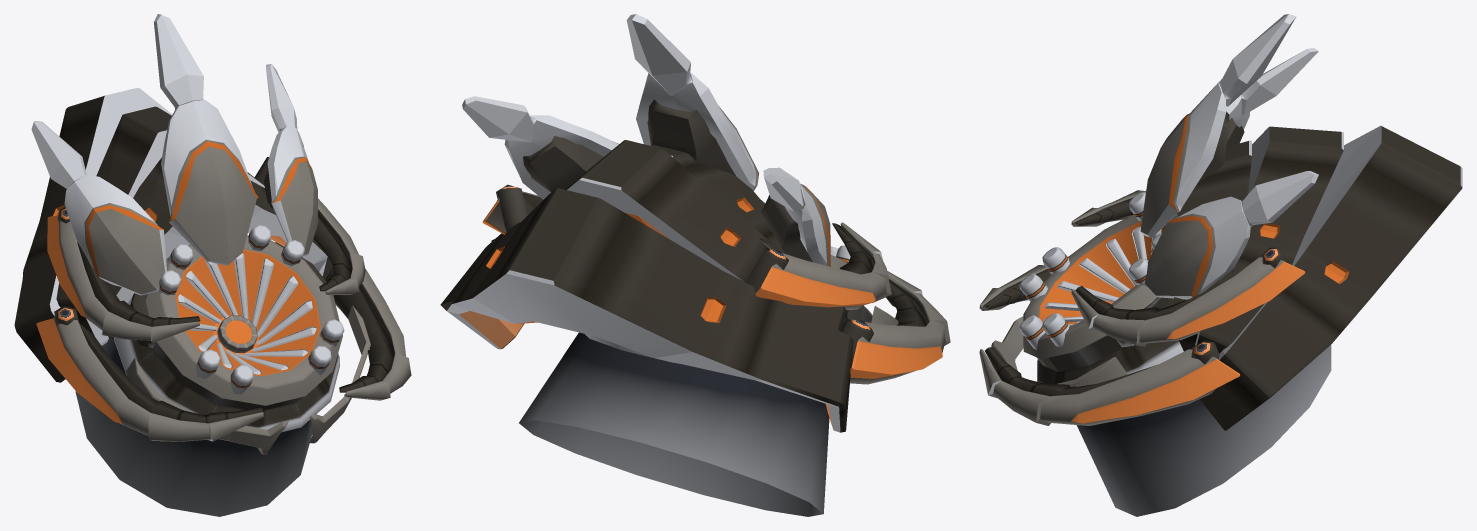
The model's file is Ung_Nest.fbx.
The picture shows the model from 3 angles, left to right: view 1: azimuth 30°, elevation 25°; view 2: azimuth 150°, elevation 25°; view 3: azimuth 270°, elevation 25°; orthographic projection. The views are drawn at different scales.
Parts seen in each view (by area): view 1: base, up2, up3, up1; view 2: base, up2, up3; view 3: base, up3, up2, up1.
Boxes of the visible parts, <box> form: base: <box>14,87,370,516</box>; up2: <box>31,14,318,295</box>; up3: <box>36,157,411,441</box>; up1: <box>158,225,344,394</box>; base: <box>440,140,898,516</box>; up2: <box>462,14,830,266</box>; up3: <box>482,184,950,384</box>; base: <box>991,125,1462,516</box>; up3: <box>979,190,1305,425</box>; up2: <box>1140,14,1318,299</box>; up1: <box>1019,192,1161,349</box>.
Bounding box in the file's own units: 4.58 × 6.04 × 5.52.
Materials: 1 (1 with a texture image).
